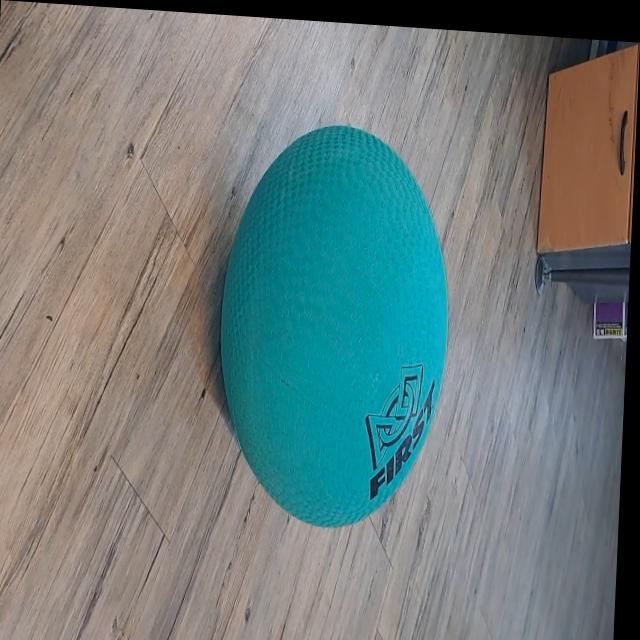ALGAE: (210, 115, 458, 536)
